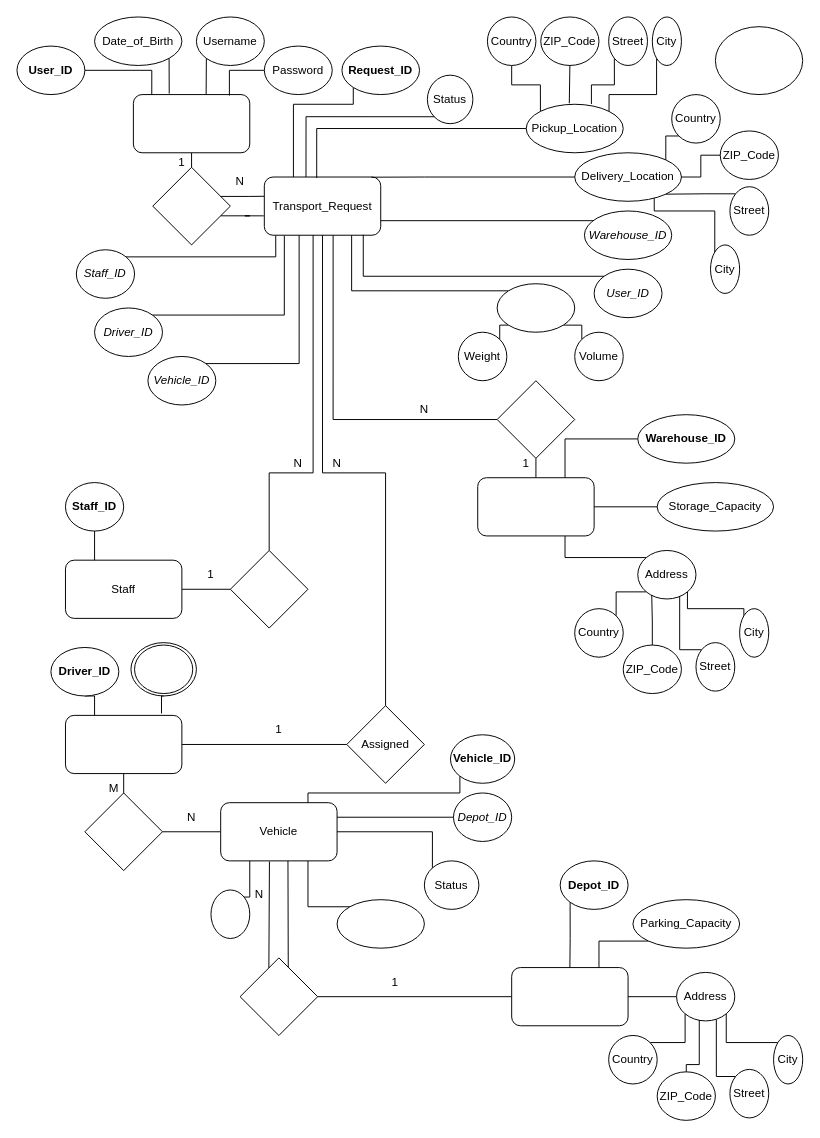
Some shapes in this 820 by 1138 pixel diagram are drawn without their labels. Each missing label, with the box of its shape:
Allocates: (229, 550, 308, 628)
Cargo_Spec: (496, 283, 575, 332)
Cargo_Warehouse: (477, 477, 594, 536)
Customer: (132, 94, 250, 153)
Driver: (65, 714, 182, 774)
Drives: (84, 792, 162, 871)
Licenses: (134, 644, 193, 694)
Max_Capacity: (336, 899, 424, 948)
Primary Key Foreign Key: (714, 26, 803, 95)
Stationed_At: (239, 957, 318, 1035)
Stored_In: (496, 380, 575, 458)
Submits: (152, 166, 230, 245)
Type: (210, 889, 250, 938)
Vehicle_Depot: (511, 967, 628, 1026)
